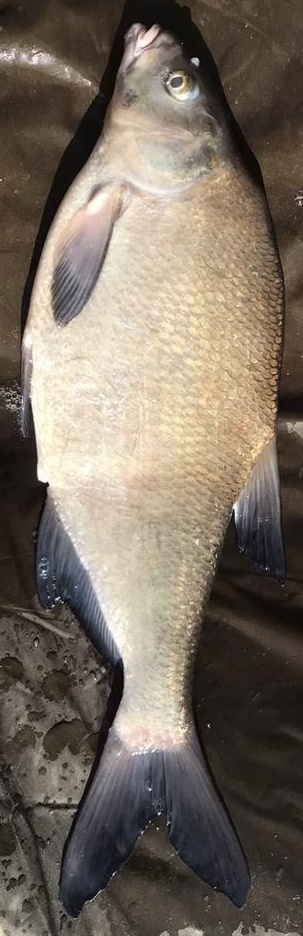Abramis brama: (20, 20, 283, 916)
